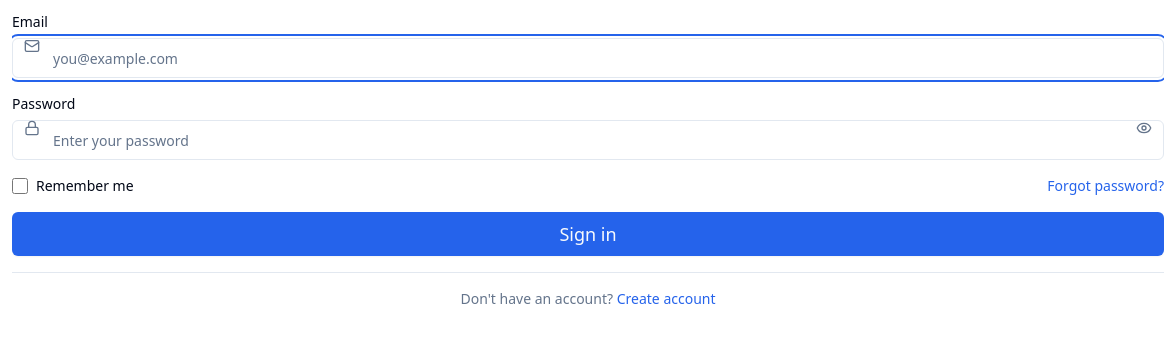
LoginForm › Form Validation › should show error when password is empty
Type "test@example.com" into the field labelled "Email". click: (588,58)
box: x1=12 y1=38 x2=1164 y2=78
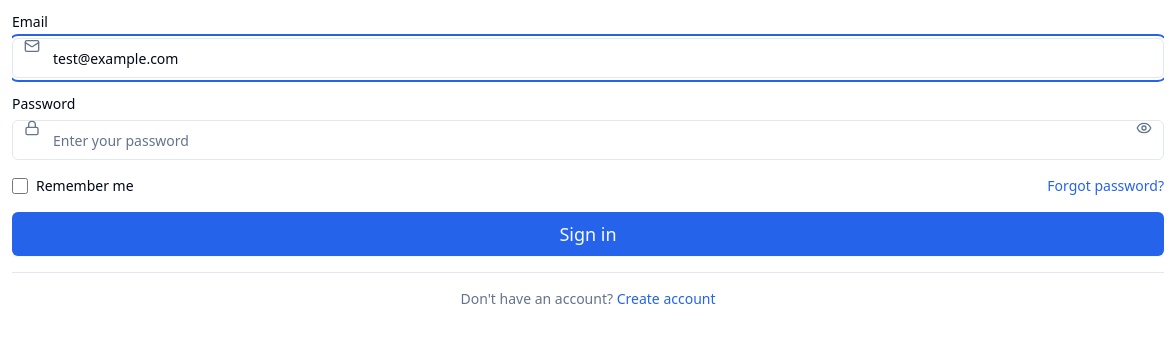
Click the button "Sign in". click: (588,234)
box: x1=12 y1=212 x2=1164 y2=256
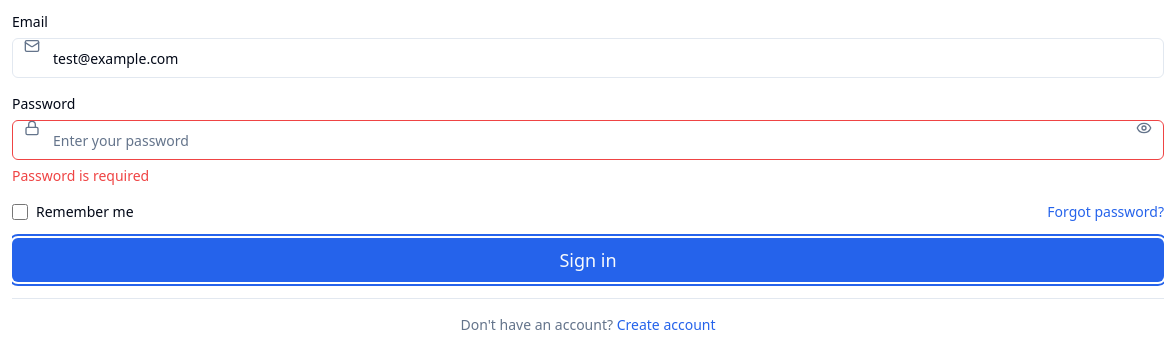
Expected: the text "Password is required" is shown, x1=12 y1=166 x2=149 y2=185
